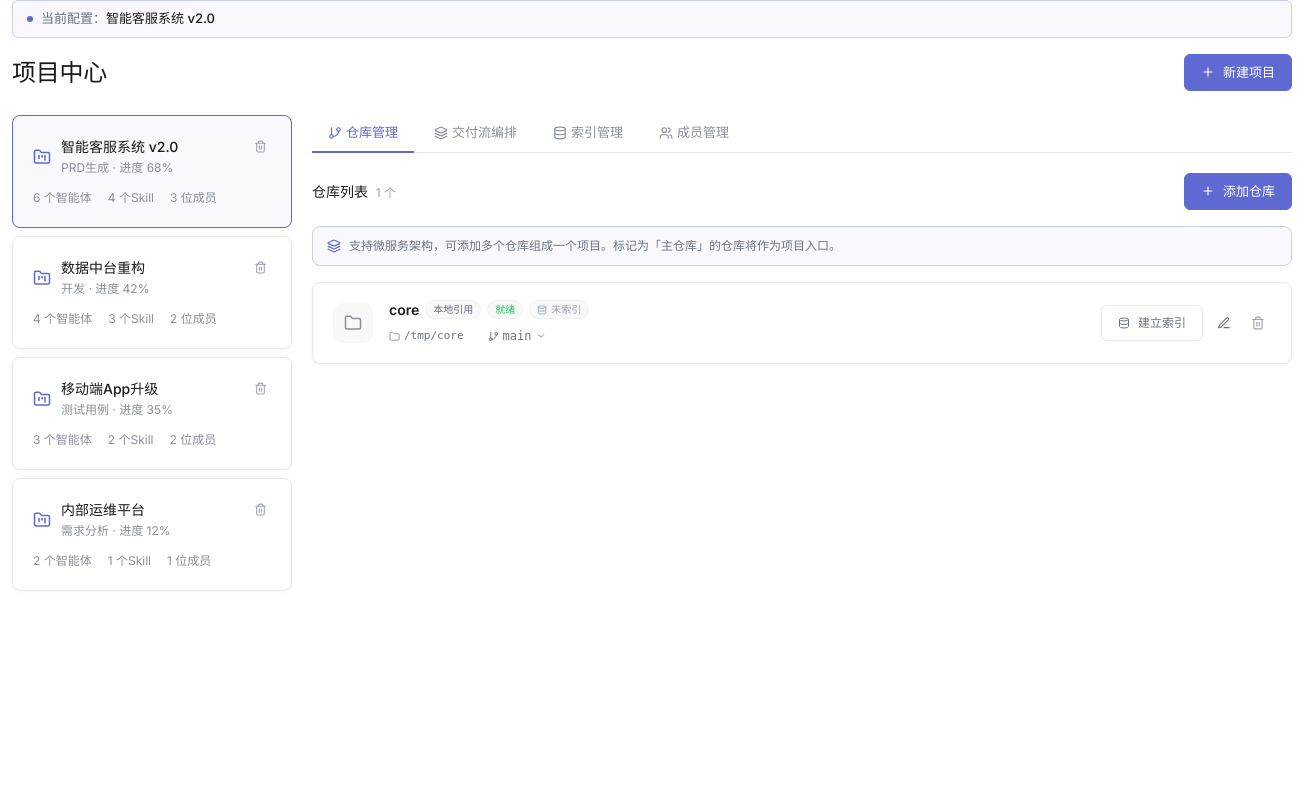
Test: Projects page › removing a project cascades repo records and index metadata
Click the button named "移除项目 数据中台重构". click: (260, 268)
box: top-left (250, 257), bottom-right (271, 278)
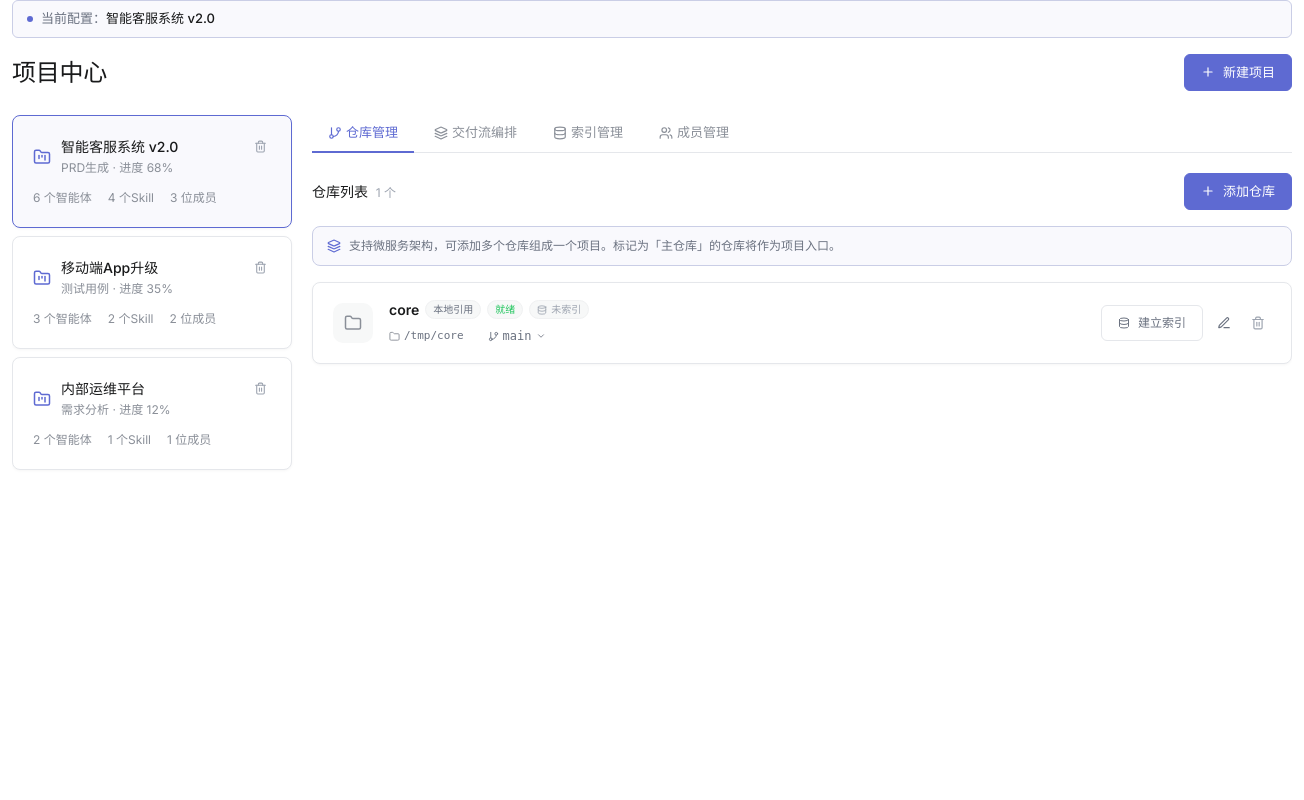
Result: the button "数据中台重构" is gone
